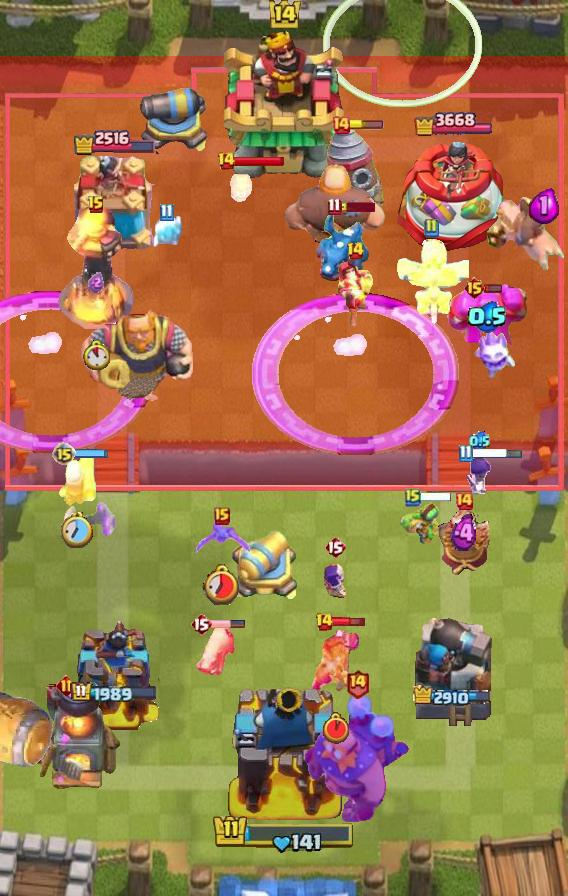balloon: (282, 162, 388, 252)
barbarian: (193, 522, 251, 558)
bat: (145, 213, 187, 251)
bowler: (334, 261, 376, 331)
clock: (212, 813, 356, 855)
clone: (444, 284, 530, 370)
dirt: (0, 689, 54, 771)
electro-dragon: (56, 204, 136, 332)
electro-spirit: (468, 301, 509, 333), (449, 514, 478, 553), (529, 188, 559, 224), (469, 432, 490, 453), (88, 271, 104, 293)
elixir: (202, 563, 242, 605), (61, 512, 93, 548), (323, 712, 349, 744), (83, 340, 109, 370)
elixir-collector: (433, 501, 495, 579)
emote: (470, 447, 524, 460), (233, 155, 285, 167), (330, 615, 366, 628), (75, 448, 110, 459), (348, 120, 384, 130), (339, 202, 375, 212), (210, 619, 246, 629), (420, 492, 453, 502), (484, 283, 503, 294)
freeze: (486, 196, 568, 272)
giant: (193, 623, 237, 679)
giant-skeleton: (79, 304, 195, 404)
giant-snowball: (400, 502, 448, 546)
goblin: (463, 456, 495, 496), (322, 562, 348, 598)
graveyard: (315, 209, 371, 285)
hunter: (34, 682, 122, 792)
ice-spirit-evolution: (227, 166, 255, 202)
king-tower: (224, 29, 344, 181), (223, 680, 345, 826)
knight-evolution: (253, 293, 460, 456), (0, 291, 154, 454)
little-prince: (303, 692, 411, 826)
magic-archer: (325, 124, 385, 218)
mini-pekka: (393, 238, 469, 328)
mirror: (472, 326, 516, 380)
queen-tower: (390, 137, 516, 255), (66, 617, 162, 731), (68, 156, 160, 256)
royal-giant: (63, 500, 115, 550)
royal-recruit: (226, 529, 300, 605), (136, 84, 210, 154)
selected: (414, 109, 492, 140), (72, 128, 156, 156), (70, 681, 158, 705), (413, 685, 493, 709)
tesla-evolution: (310, 627, 362, 695)
text: (346, 669, 371, 700), (52, 442, 76, 466), (462, 276, 485, 300), (324, 535, 346, 559), (190, 612, 212, 636), (55, 675, 76, 697), (331, 115, 351, 135), (454, 491, 474, 511), (216, 151, 235, 171), (347, 241, 366, 261), (315, 612, 334, 632), (87, 195, 105, 215), (423, 218, 439, 238), (405, 487, 421, 507), (214, 507, 230, 525), (459, 444, 474, 463), (159, 203, 174, 221), (327, 197, 341, 216)
tombstone: (56, 450, 98, 508)
tower-bar: (410, 611, 496, 731)
